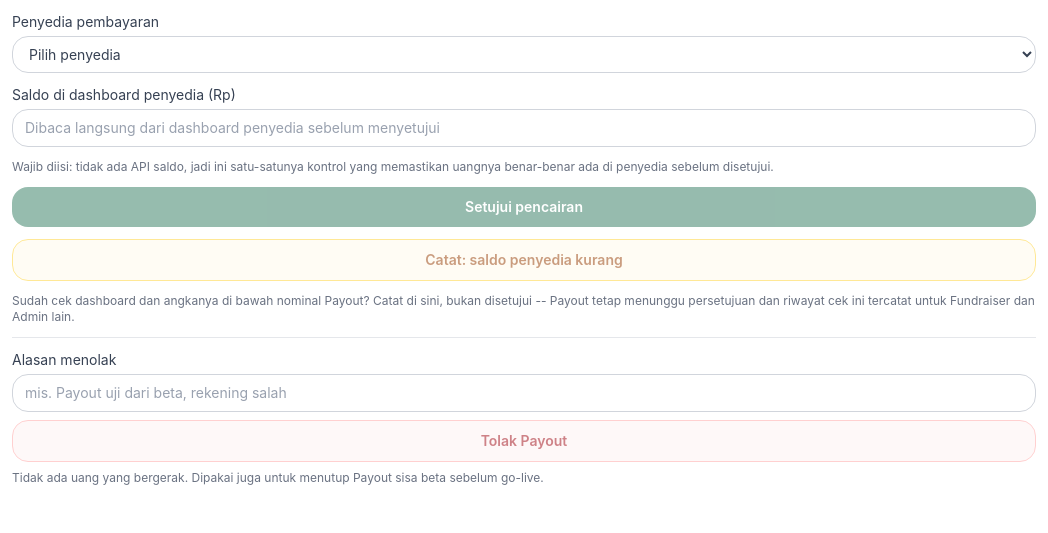
Test: AdminPayoutActionForm -- rejecting a DRAFT and failing an APPROVED Payout (PAY-02) › shows the server refusal in its own words
Type "x" into the field labelled "Alasan menolak".
click(524, 393); type("x")  # box [12,374,1036,412]
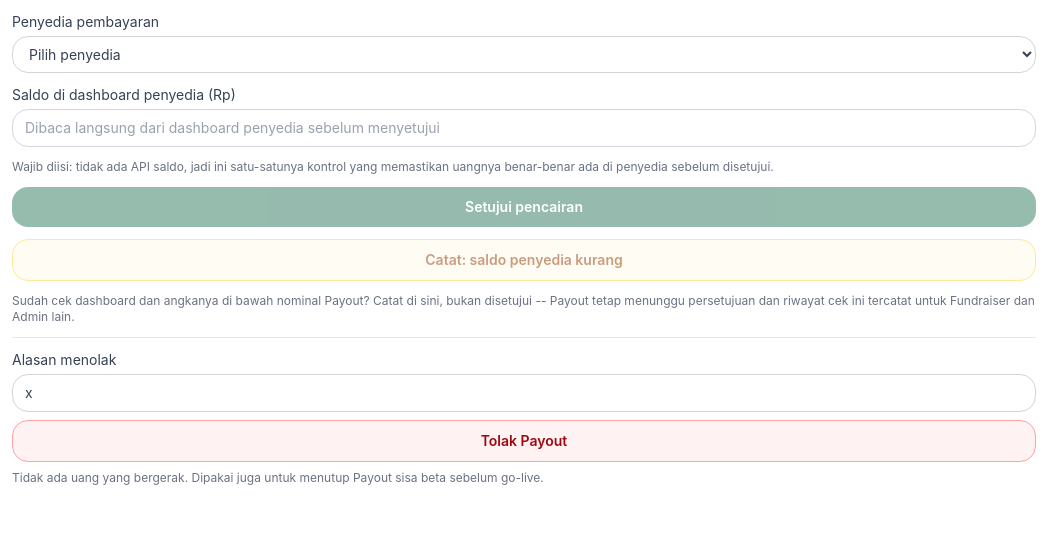
Click the button "Tolak Payout".
click(524, 441)  # box [12,420,1036,462]
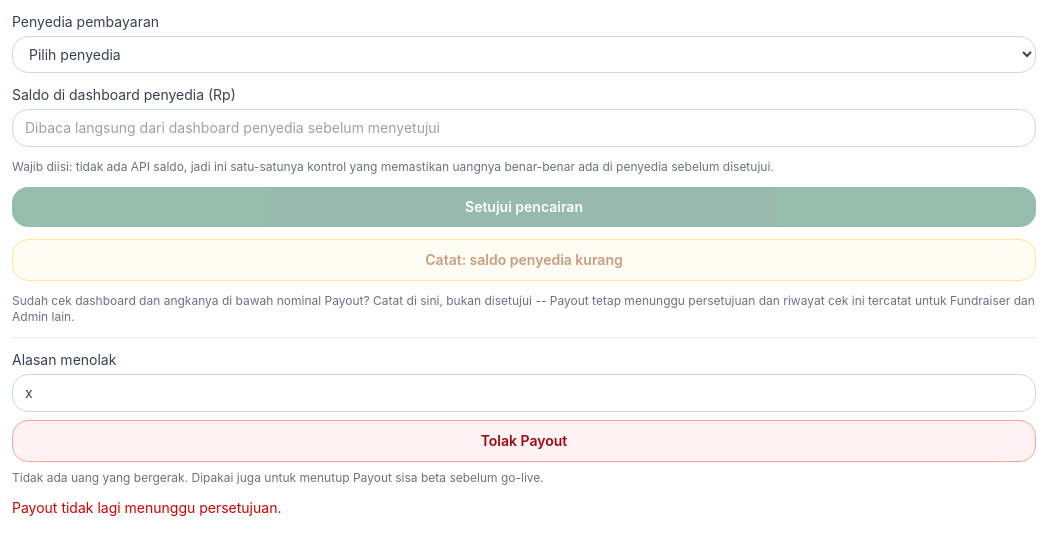
Now the message reads "Payout tidak lagi menunggu persetujuan.", box [12,499,282,516]
